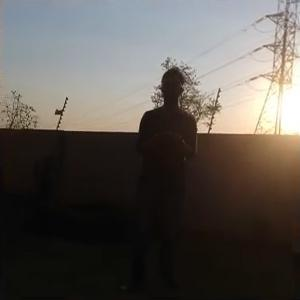follow: (110, 57, 201, 289)
